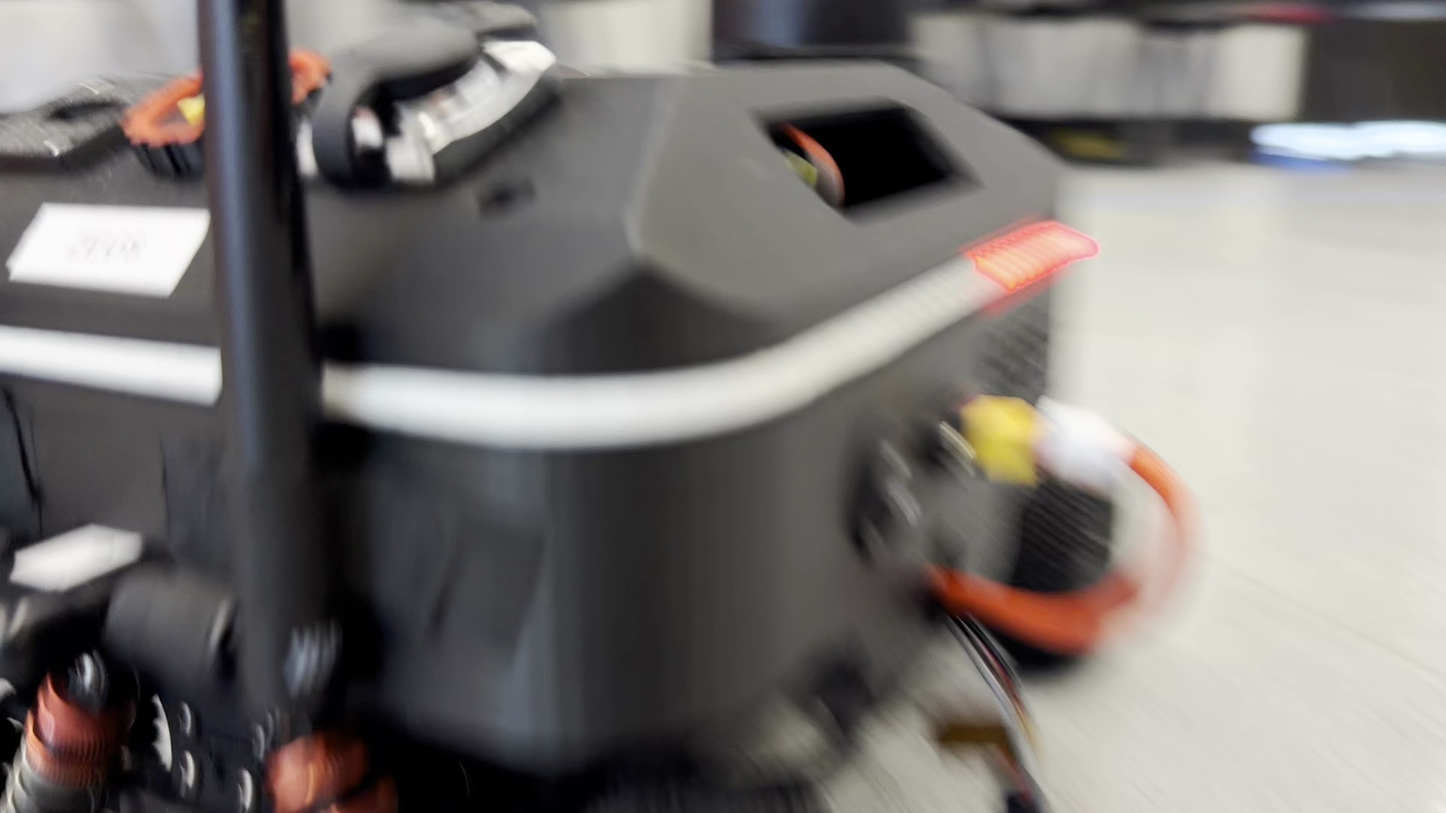racecar: (42, 7, 1175, 813)
